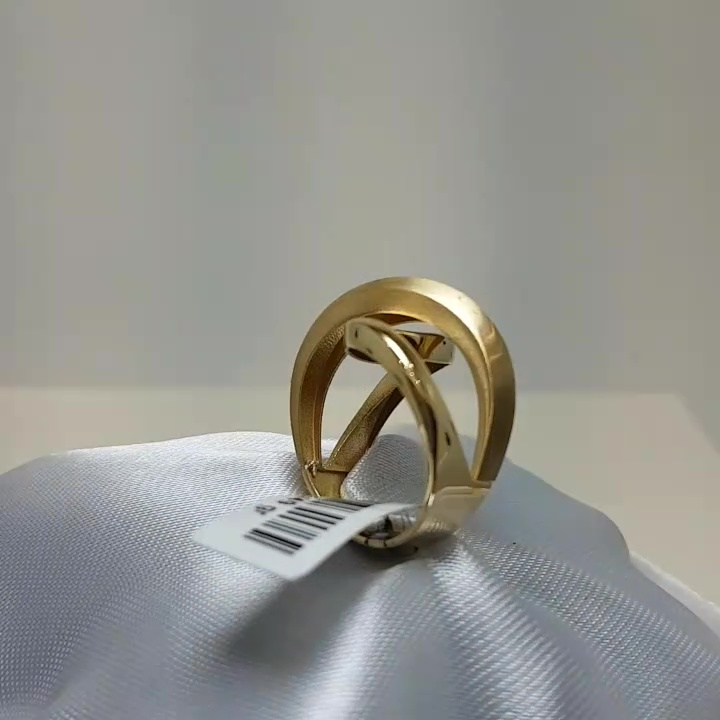Ring 3: (232, 256, 523, 553)
